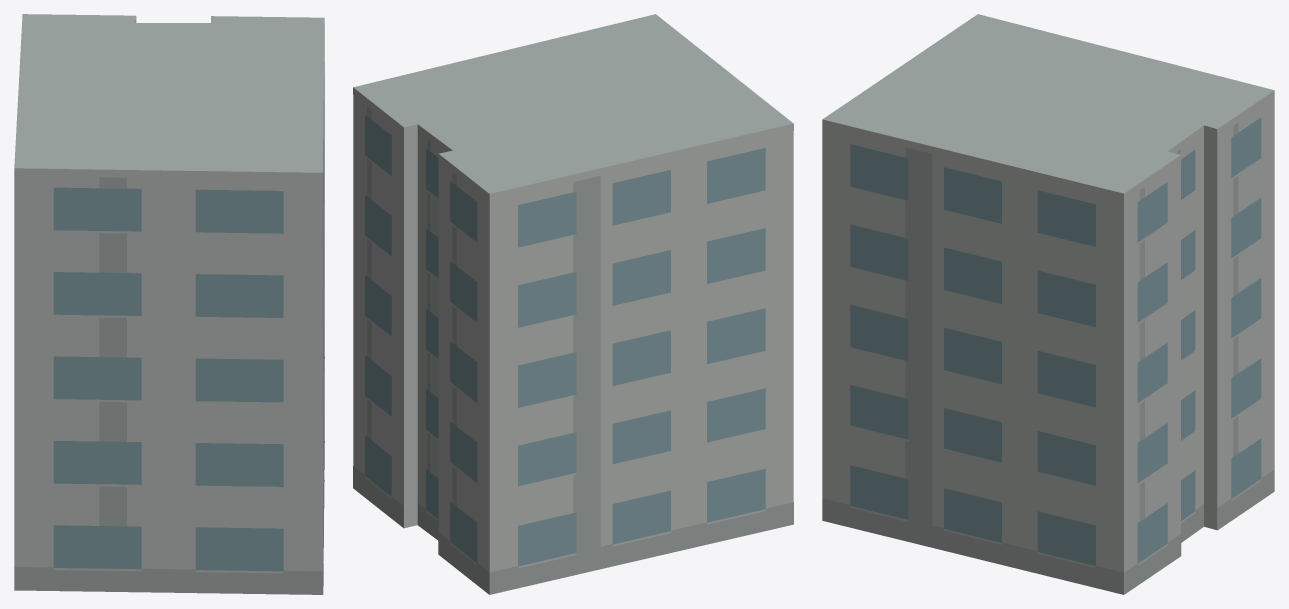
Rendered from survey-upis-32881289.glb.
3 renders of one model, left to right at view 1: azimuth 30°, elevation 25°; view 2: azimuth 150°, elevation 25°; view 3: azimuth 270°, elevation 25°, orthographic. The views are drawn at different scales.
Visible parts, largest first — view 1: survey-upis-32881289.tmp; view 2: survey-upis-32881289.tmp; view 3: survey-upis-32881289.tmp.
Part boxes in pixels (x1,y1,x2,y2): survey-upis-32881289.tmp: (14, 14, 324, 594); survey-upis-32881289.tmp: (353, 14, 793, 594); survey-upis-32881289.tmp: (822, 14, 1274, 594).
Bounding box in the file's own units: 12.64 × 13.16 × 13.45.
